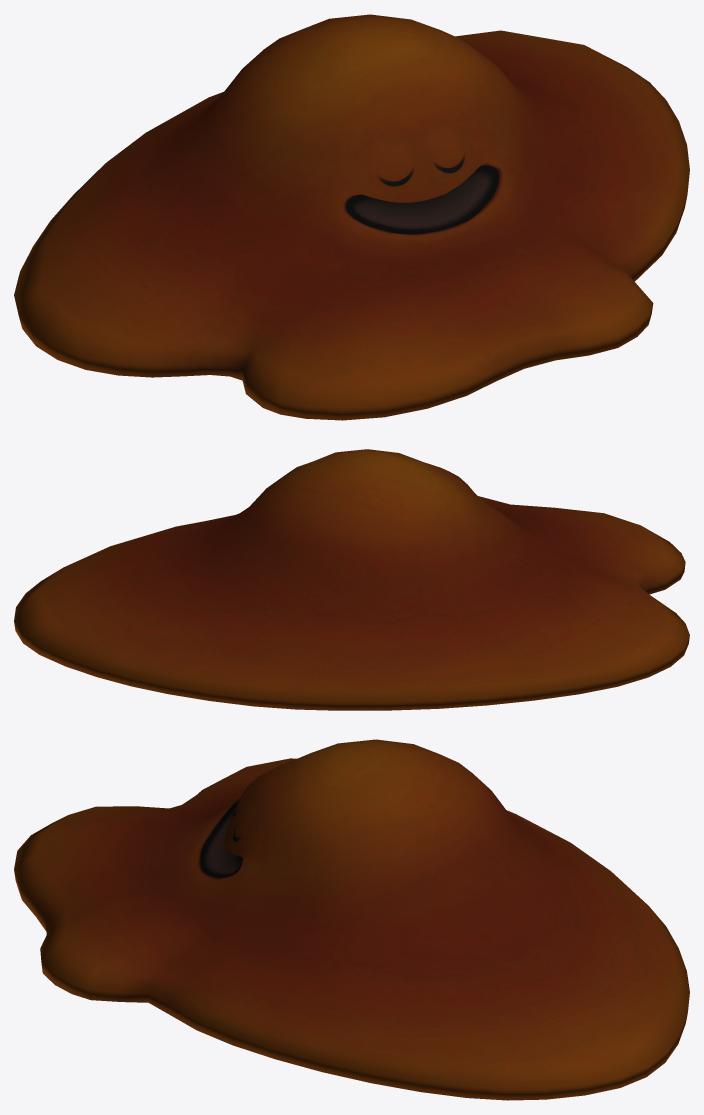
File: slime.obj
The picture shows the model from 3 angles, top to bottom: view 1: azimuth 30°, elevation 25°; view 2: azimuth 150°, elevation 25°; view 3: azimuth 270°, elevation 25°; orthographic projection. The views are drawn at different scales.
Parts seen in each view (by area): view 1: SK_M007_E002; view 2: SK_M007_E002; view 3: SK_M007_E002.
Part boxes in pixels (x1=…): SK_M007_E002: x1=14, y1=14, x2=689, y2=420; SK_M007_E002: x1=14, y1=449, x2=689, y2=710; SK_M007_E002: x1=14, y1=739, x2=689, y2=1100.
Bounding box in the file's own units: 1.85 × 0.4955 × 1.63.
1 material, 1 textured.
